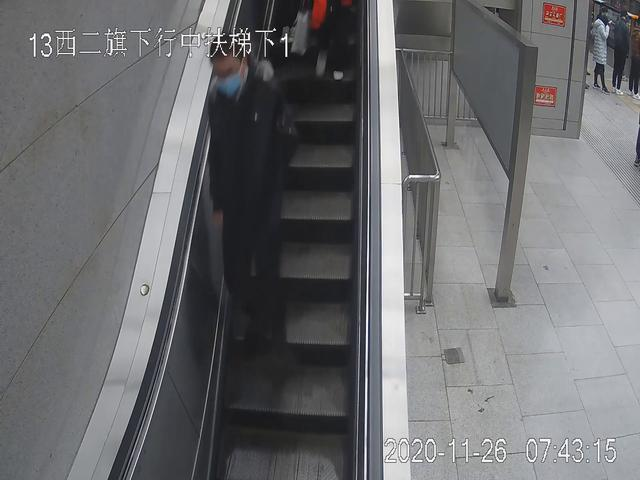person: (209, 36, 294, 362), (590, 13, 613, 93), (612, 14, 634, 96)
